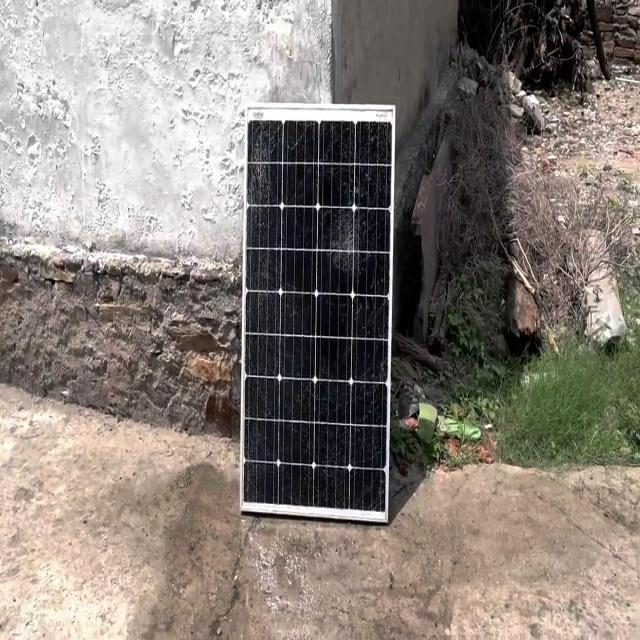faulty: (242, 98, 390, 520)
